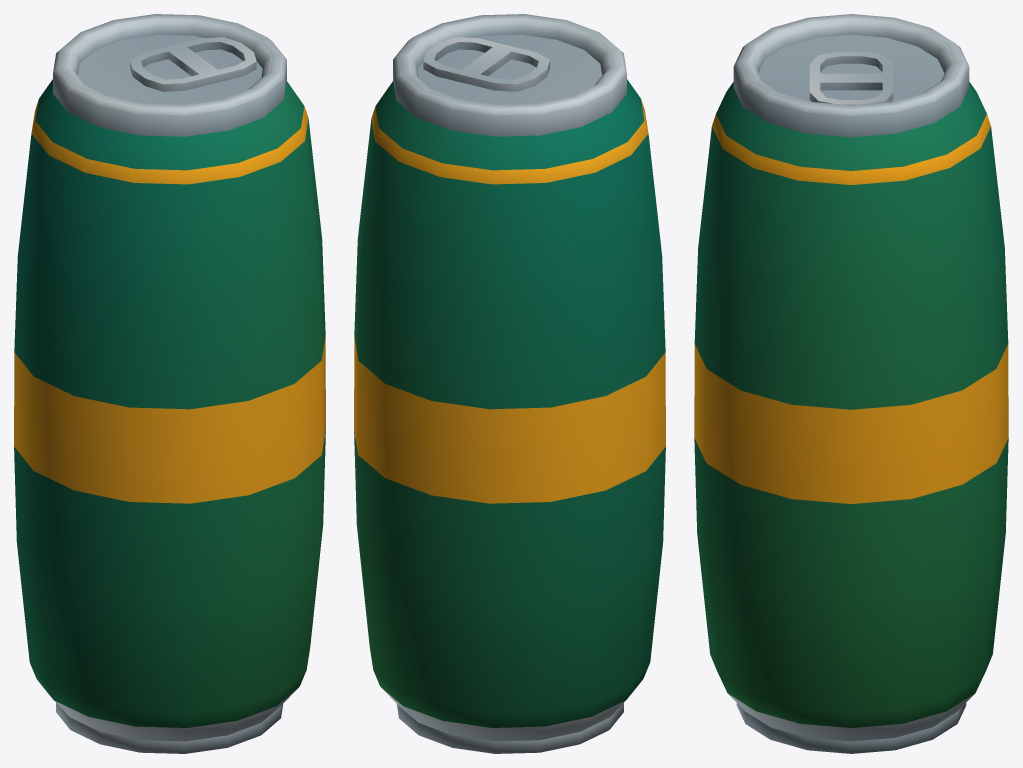
Rendered from can_003.fbx.
The picture shows the model from 3 angles, left to right: view 1: azimuth 30°, elevation 25°; view 2: azimuth 150°, elevation 25°; view 3: azimuth 270°, elevation 25°; orthographic projection.
Parts seen in each view (by area): view 1: can_003; view 2: can_003; view 3: can_003.
Boxes of the visible parts, x1,y1,x2,y2 form: can_003: (14,14,325,753); can_003: (354,14,665,753); can_003: (694,14,1008,753).
Size of the model in its own units: 8.22 by 8.22 by 18.71.
